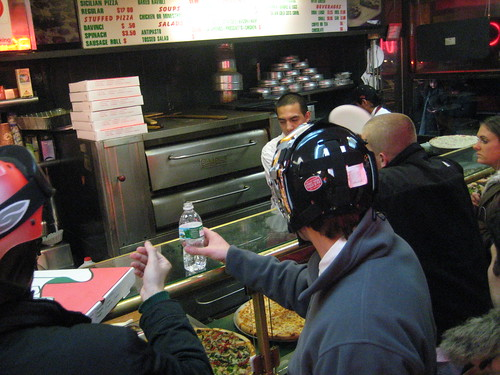helmet: (271, 120, 375, 234)
